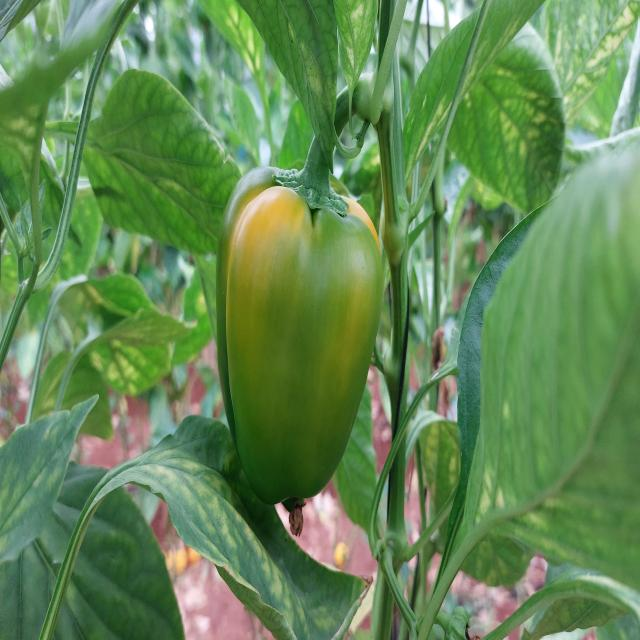GreenishYellow--Can-be-Harvested: (208, 152, 402, 518)
